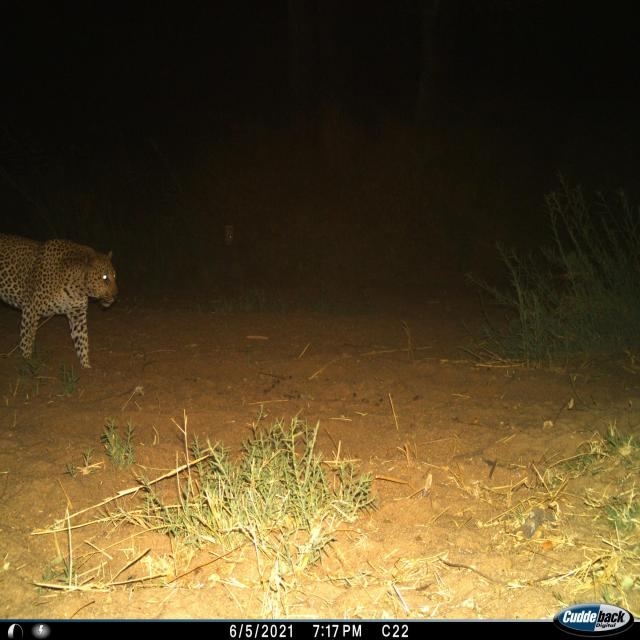Leopard: (0, 217, 118, 409)
